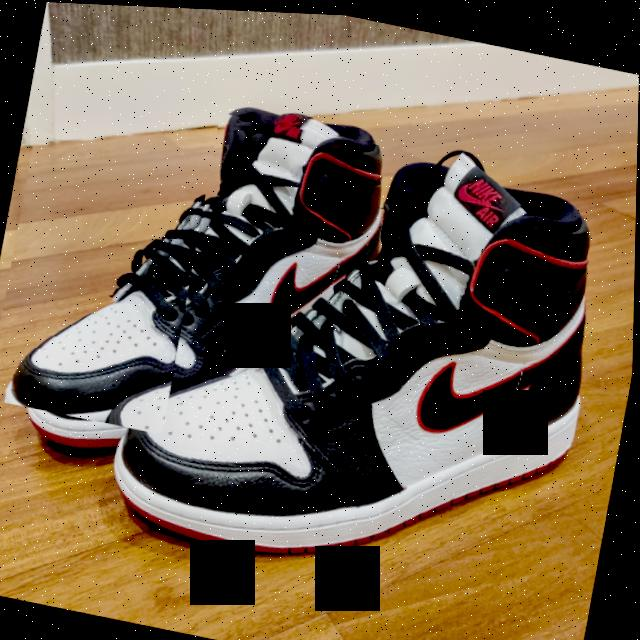shoe: (148, 109, 613, 595), (0, 36, 416, 472)
